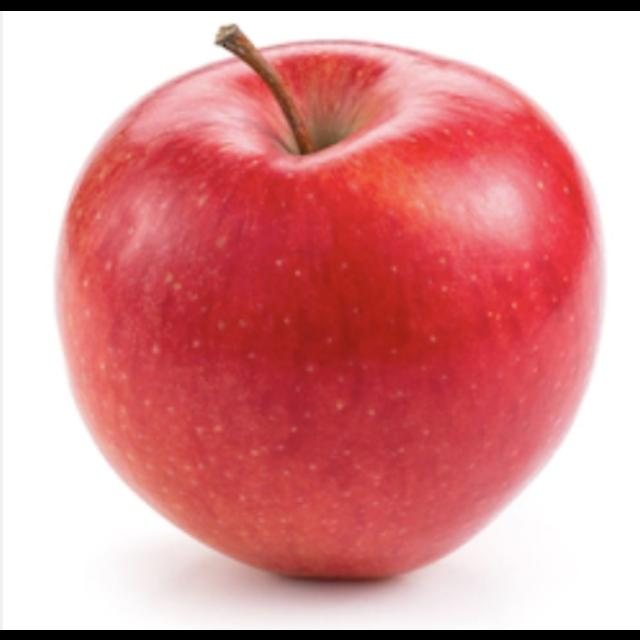Apel Segar: (47, 23, 613, 593)
